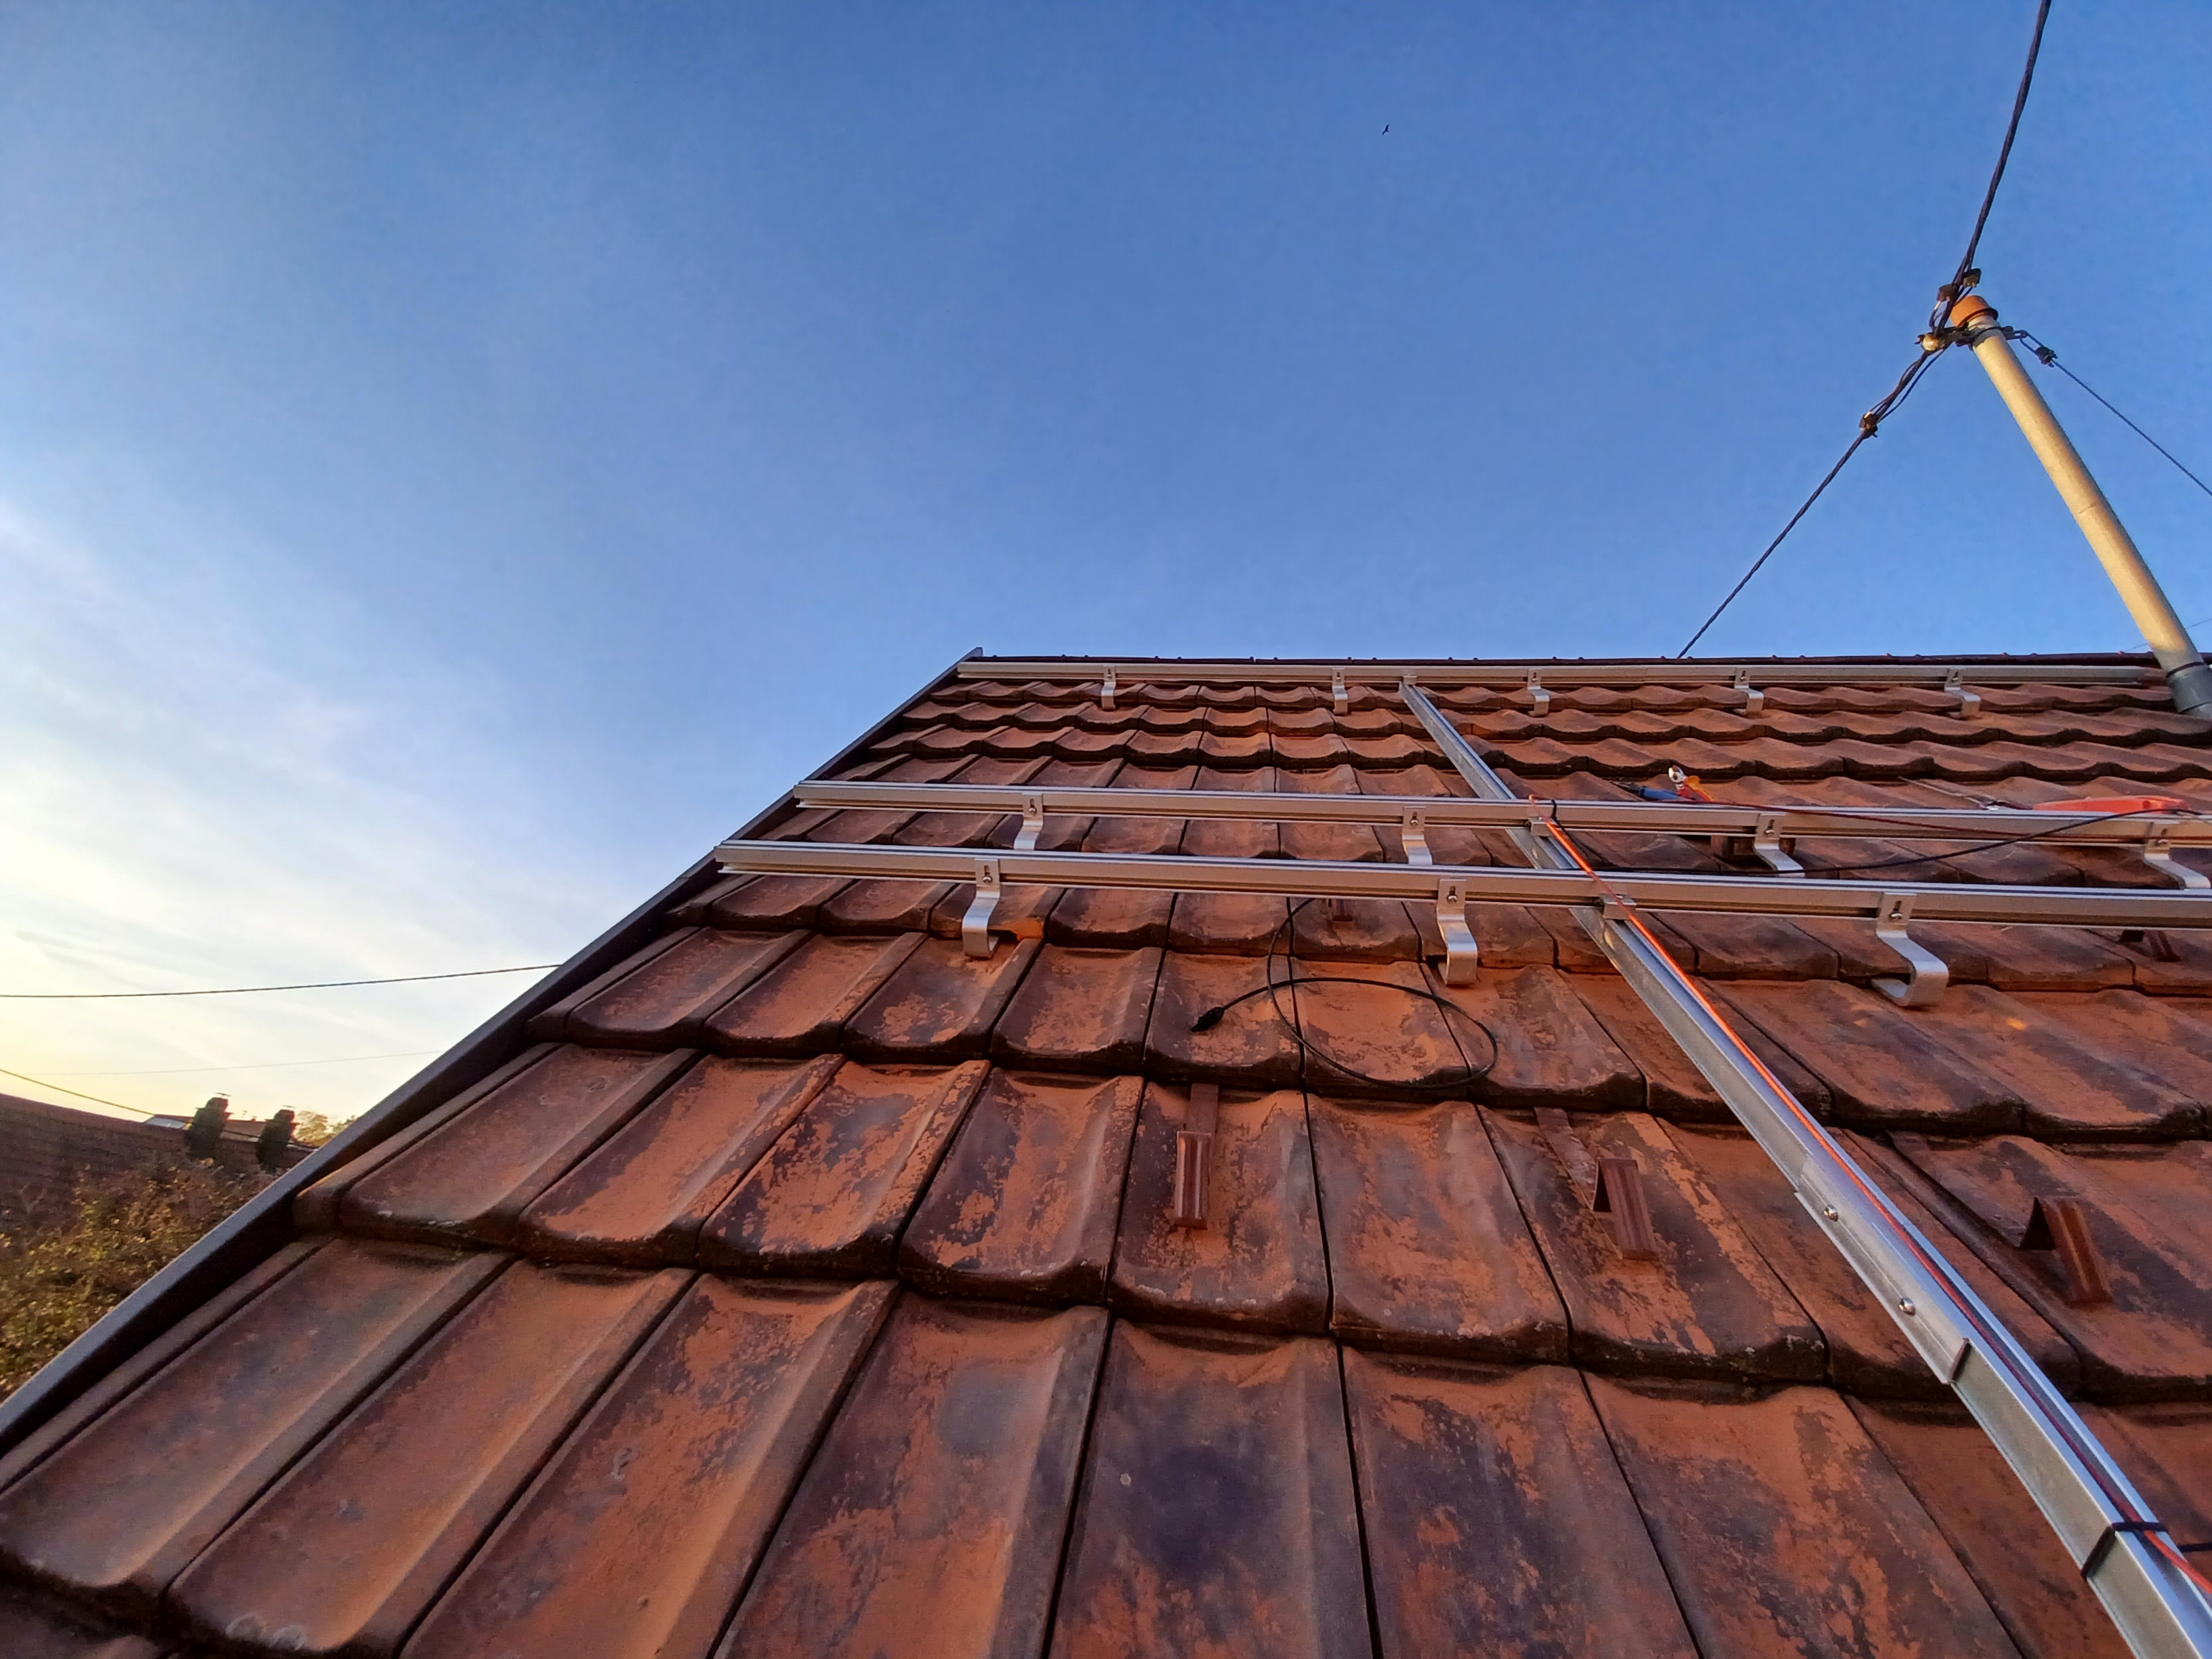hook: (1871, 892, 1947, 1009), (2142, 821, 2210, 887), (1435, 878, 1477, 985), (961, 859, 1000, 958), (1750, 812, 1808, 877), (1402, 805, 1433, 866), (1944, 667, 1980, 718), (1014, 791, 1043, 850), (1733, 667, 1764, 716), (1527, 667, 1548, 716), (1332, 667, 1348, 714), (1101, 666, 1115, 709)
